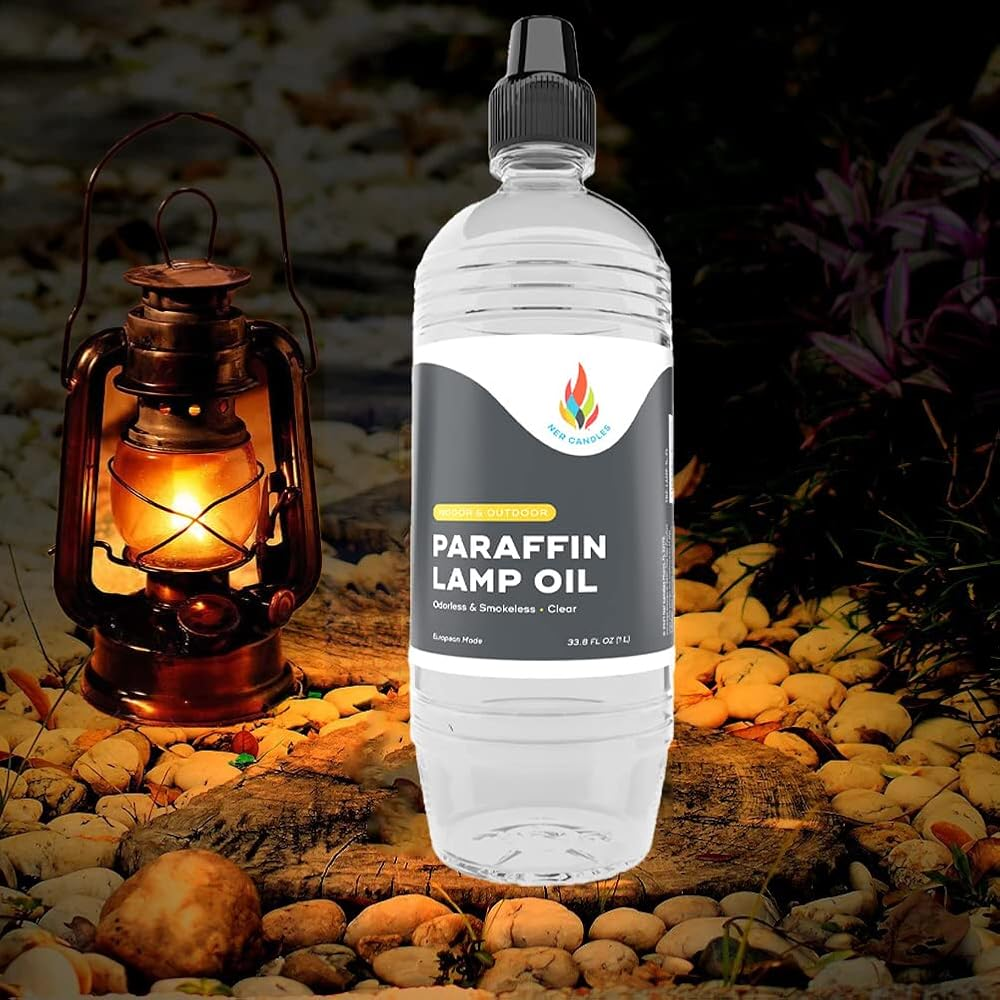Open-Flame-Hazard: (49, 112, 343, 737)
